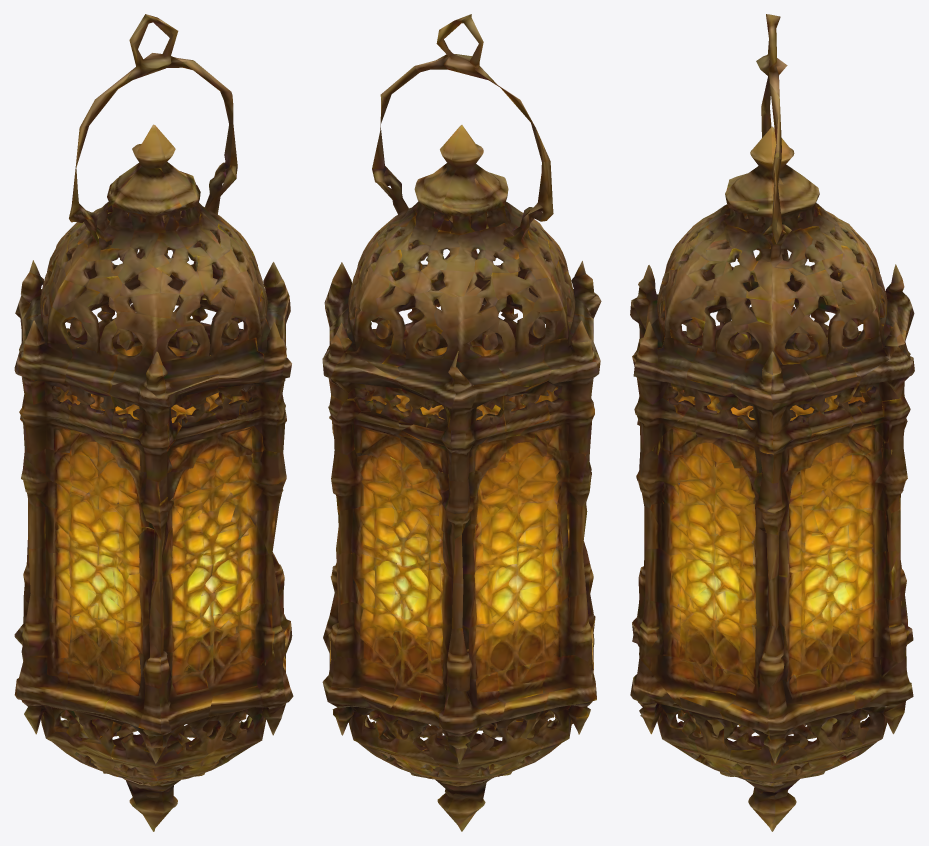
The model's file is Fanus.glb.
3 renders of one model, left to right at view 1: azimuth 30°, elevation 25°; view 2: azimuth 150°, elevation 25°; view 3: azimuth 270°, elevation 25°, orthographic.
Bounding box in the file's own units: 0.6564 × 1.88 × 0.5947.
Materials: 1 (1 with a texture image).
